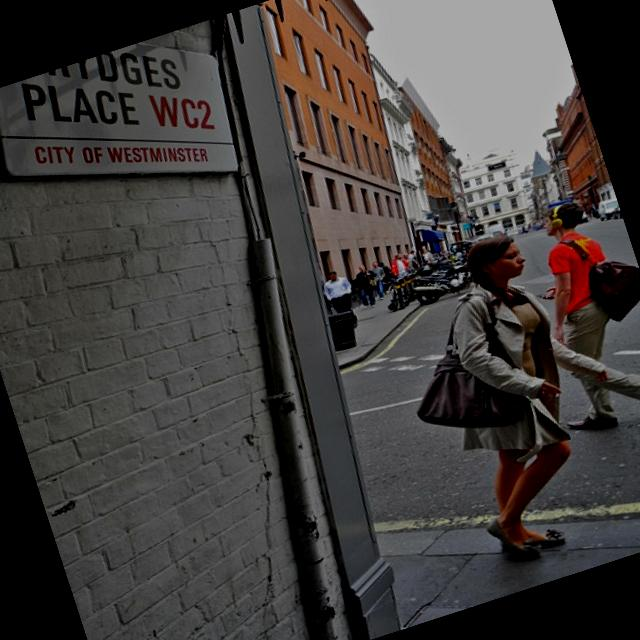Vehicle: (406, 252, 480, 308), (382, 273, 422, 314), (424, 250, 466, 278), (590, 197, 622, 224)
